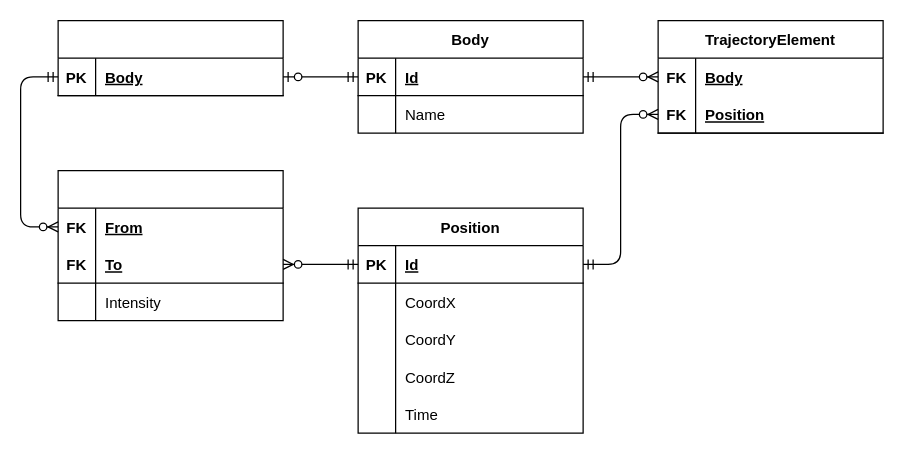
The diagram is 904 pixels wide and 454 high, and some of its shapes have lost their labels. Here are the shapes that lost their labels. From the top down, the box of each, then its label:
(57, 19, 283, 96): Star
(57, 169, 283, 321): Lighting
